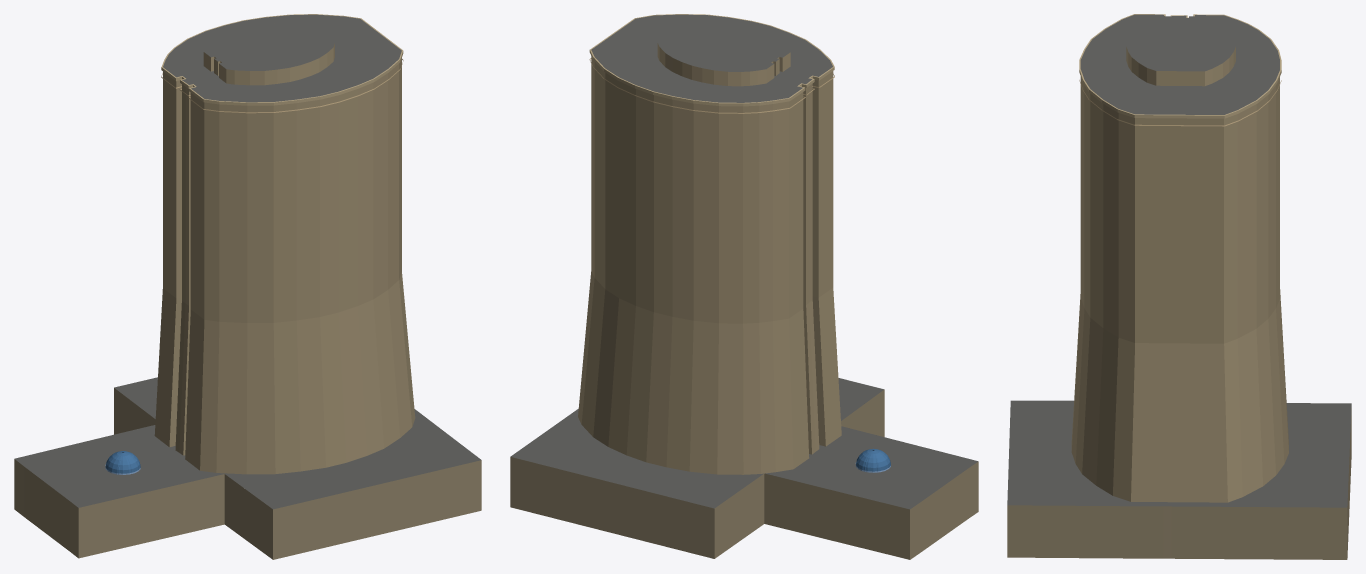
File: marriott-marquis.glb
3 renders of one model, left to right at view 1: azimuth 30°, elevation 25°; view 2: azimuth 150°, elevation 25°; view 3: azimuth 270°, elevation 25°, orthographic. The views are drawn at different scales.
Visible parts, largest first — view 1: lod0_bld_wall, lod0_bld_roof, lod0_lm_stone, lod0_lm_glass, lod1_lm_stone; view 2: lod0_bld_wall, lod0_bld_roof, lod0_lm_stone, lod0_lm_glass; view 3: lod0_bld_wall, lod0_bld_roof, lod0_lm_stone.
Part boxes in pixels (<box>): lod0_bld_wall: <box>14,43,481,559</box>; lod0_bld_roof: <box>14,14,481,509</box>; lod0_lm_stone: <box>161,14,403,105</box>; lod0_lm_glass: <box>105,451,140,473</box>; lod1_lm_stone: <box>109,76,369,473</box>; lod0_bld_wall: <box>510,43,978,559</box>; lod0_bld_roof: <box>510,14,977,509</box>; lod0_lm_stone: <box>590,14,834,106</box>; lod0_lm_glass: <box>856,448,890,471</box>; lod0_bld_wall: <box>1007,47,1351,559</box>; lod0_bld_roof: <box>1007,14,1351,507</box>; lod0_lm_stone: <box>1079,14,1281,118</box>.
Bounding box in the file's own units: 151 × 176 × 122.
